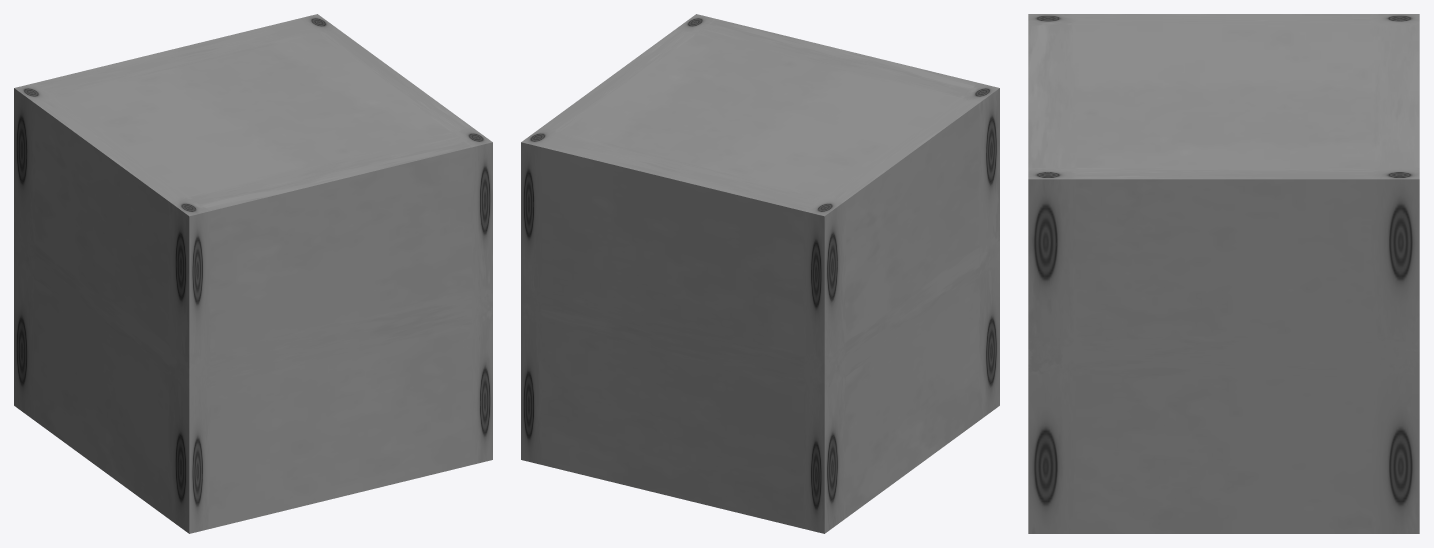
File: ScalableMesh_Ground__2.fbx
3 renders of one model, left to right at view 1: azimuth 30°, elevation 25°; view 2: azimuth 150°, elevation 25°; view 3: azimuth 270°, elevation 25°, orthographic. The views are drawn at different scales.
Parts seen in each view (by area): view 1: MAT_ScalableMesh_01; view 2: MAT_ScalableMesh_01; view 3: MAT_ScalableMesh_01.
Boxes of the visible parts, x1,y1,x2,y2 form: MAT_ScalableMesh_01: (14, 14, 492, 533); MAT_ScalableMesh_01: (521, 14, 999, 533); MAT_ScalableMesh_01: (1028, 14, 1419, 533).
Bounding box in the file's own units: 1 × 1 × 1.
Materials: 1 (1 with a texture image).
